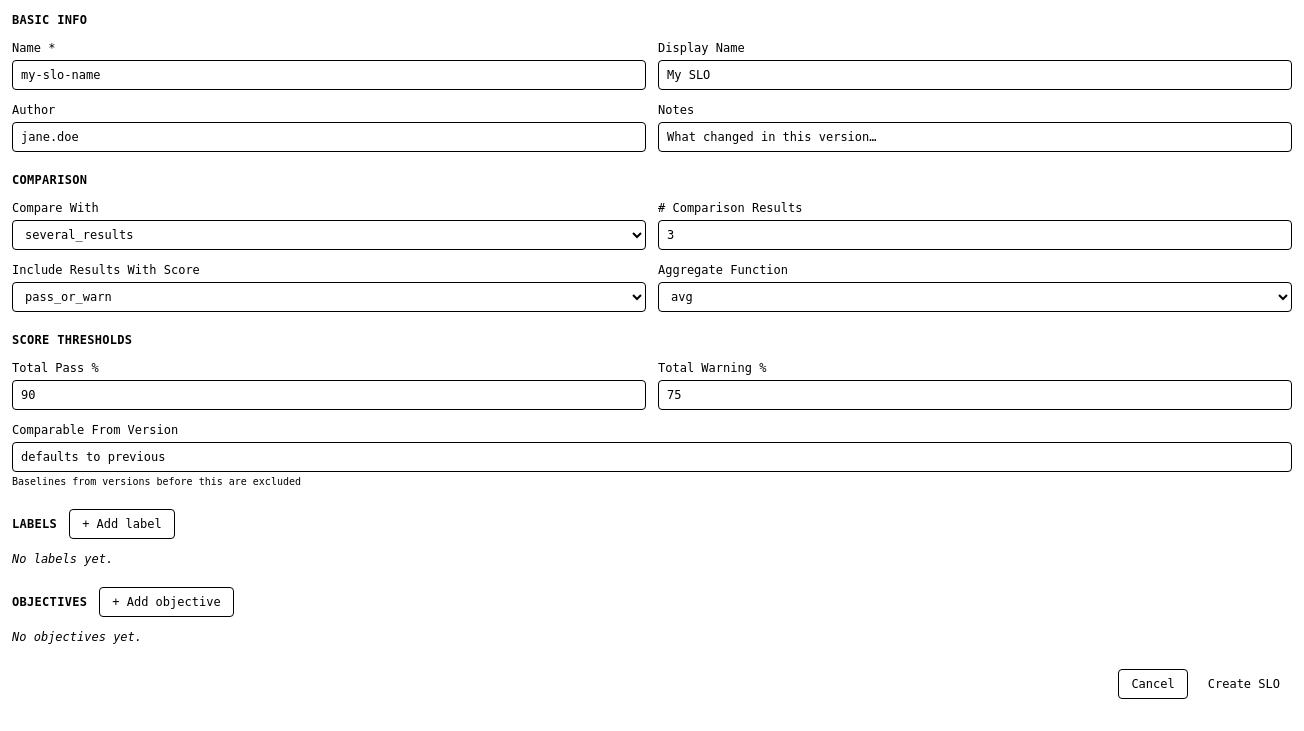
Test: SloCreateForm › adds a label row when + Add label is clicked
Expected: the text "No labels yet." is shown, x1=12 y1=552 x2=113 y2=566
Click the button "+ Add label".
click(122, 524)  # box x1=69 y1=509 x2=175 y2=539
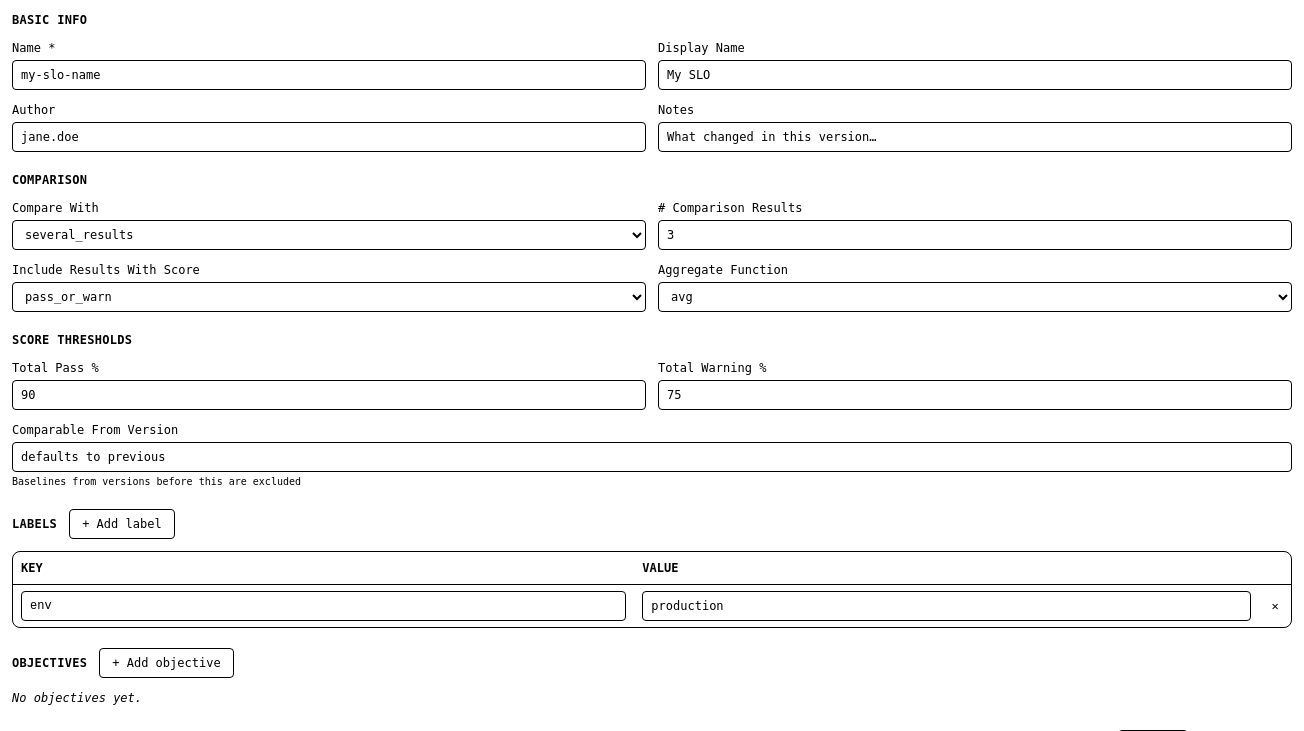
Expected: the text "No labels yet." is gone
Expected: the field with placeholder "env" is shown, x1=21 y1=591 x2=626 y2=621
Expected: the field with placeholder "production" is shown, x1=642 y1=591 x2=1251 y2=621
